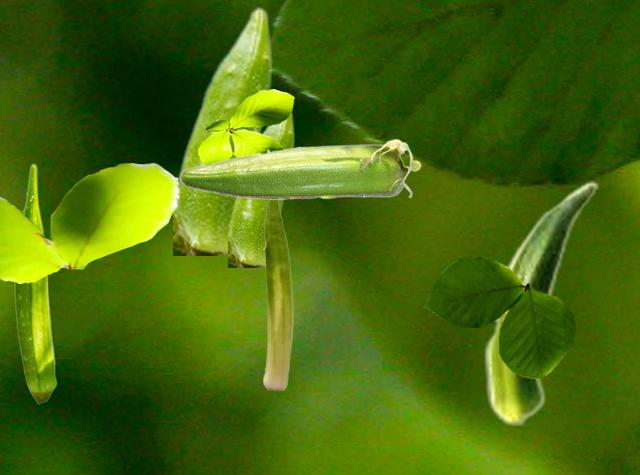okra: (483, 181, 597, 426), (173, 5, 272, 254), (179, 138, 420, 199), (228, 102, 294, 266), (14, 163, 56, 403), (263, 200, 292, 389)
